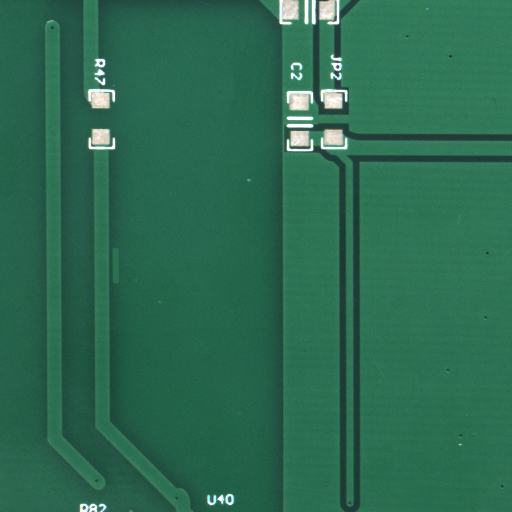Spurious_copper: (115, 265, 124, 304)
